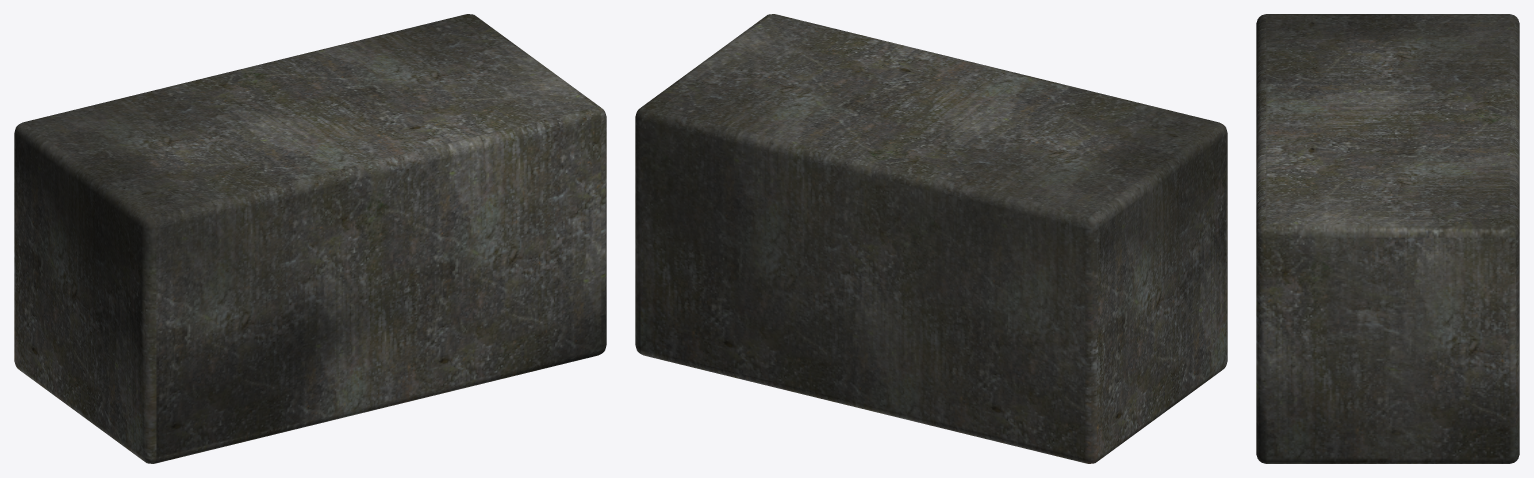
File: brick.fbx
The picture shows the model from 3 angles, left to right: view 1: azimuth 30°, elevation 25°; view 2: azimuth 150°, elevation 25°; view 3: azimuth 270°, elevation 25°; orthographic projection. The views are drawn at different scales.
Visible parts, largest first — view 1: Cube.050; view 2: Cube.050; view 3: Cube.050.
Boxes of the visible parts, x1=… form: Cube.050: x1=14, y1=14, x2=606, y2=463; Cube.050: x1=635, y1=14, x2=1227, y2=463; Cube.050: x1=1256, y1=14, x2=1519, y2=463.
Size of the model in its own units: 391 by 200 by 200.
